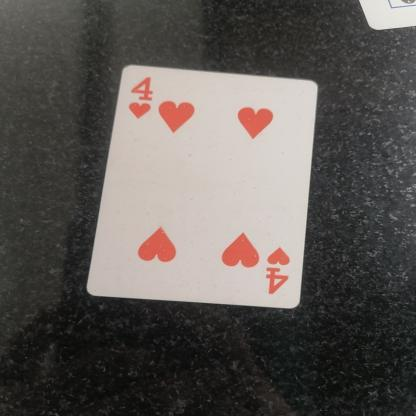4H: (115, 66, 174, 128), (264, 228, 298, 306)
